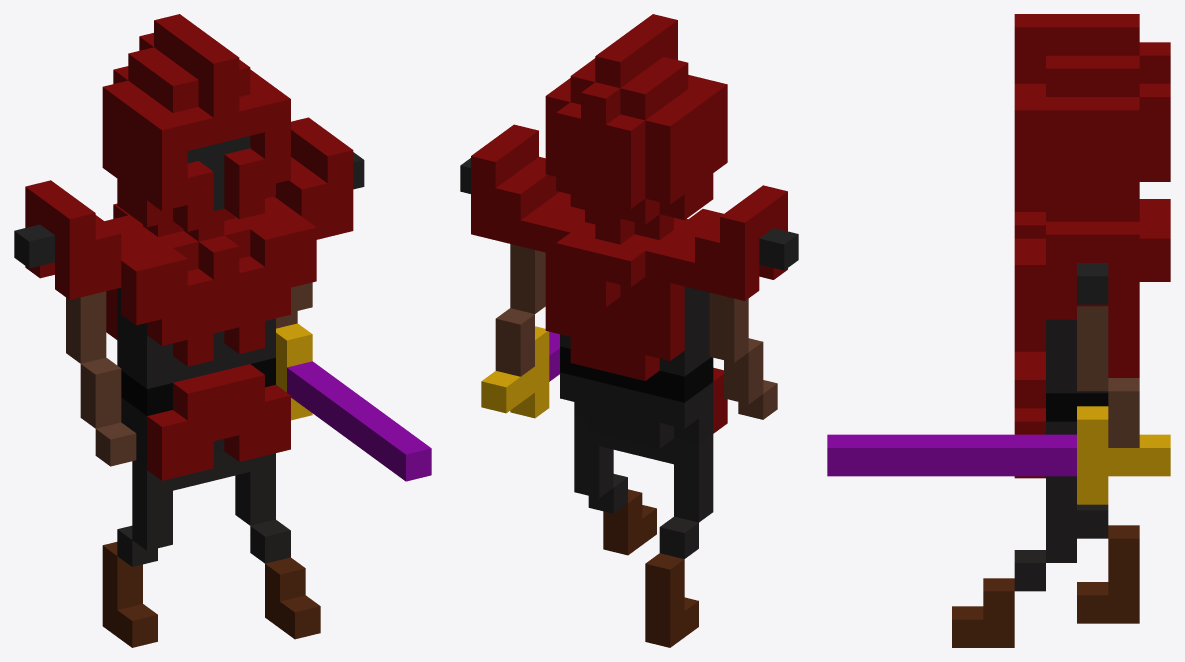
The model's file is SwingingBlackNight-3.obj.
3 views of the same model, side by side, from view 1: azimuth 30°, elevation 25°; view 2: azimuth 150°, elevation 25°; view 3: azimuth 270°, elevation 25° (orthographic). The views are drawn at different scales.
Visible parts, largest first — view 1: SwingingBlackNight-3; view 2: SwingingBlackNight-3; view 3: SwingingBlackNight-3.
Part boxes in pixels (bbox=[...]): SwingingBlackNight-3: bbox=[14, 14, 431, 647]; SwingingBlackNight-3: bbox=[460, 14, 798, 647]; SwingingBlackNight-3: bbox=[827, 14, 1170, 647].
Bounding box in the file's own units: 13 × 22 × 11.
Materials: 1 (1 with a texture image).
